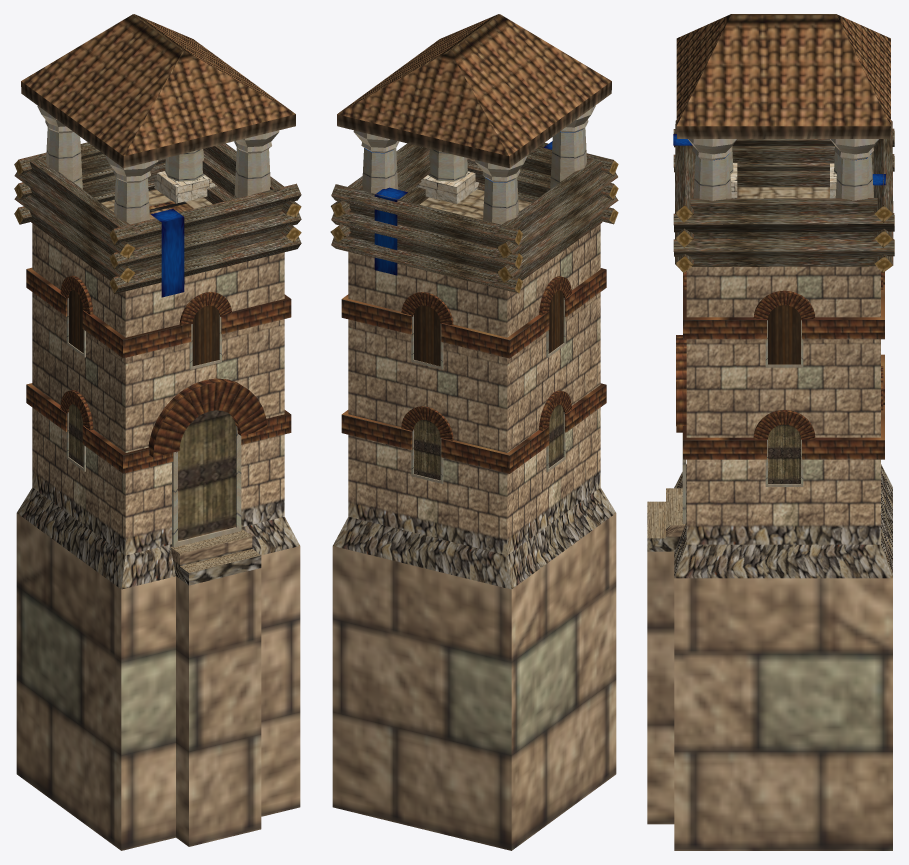
Rendered from stone_tower.dae.
3 renders of one model, left to right at view 1: azimuth 30°, elevation 25°; view 2: azimuth 150°, elevation 25°; view 3: azimuth 270°, elevation 25°, orthographic. The views are drawn at different scales.
Parts seen in each view (by area): view 1: stone_tower; view 2: stone_tower; view 3: stone_tower.
Boxes of the visible parts, <box> form: stone_tower: <box>14,14,301,850</box>; stone_tower: <box>330,14,618,850</box>; stone_tower: <box>647,14,894,850</box>.
Bounding box in the file's own units: 8 × 8.96 × 31.61.
